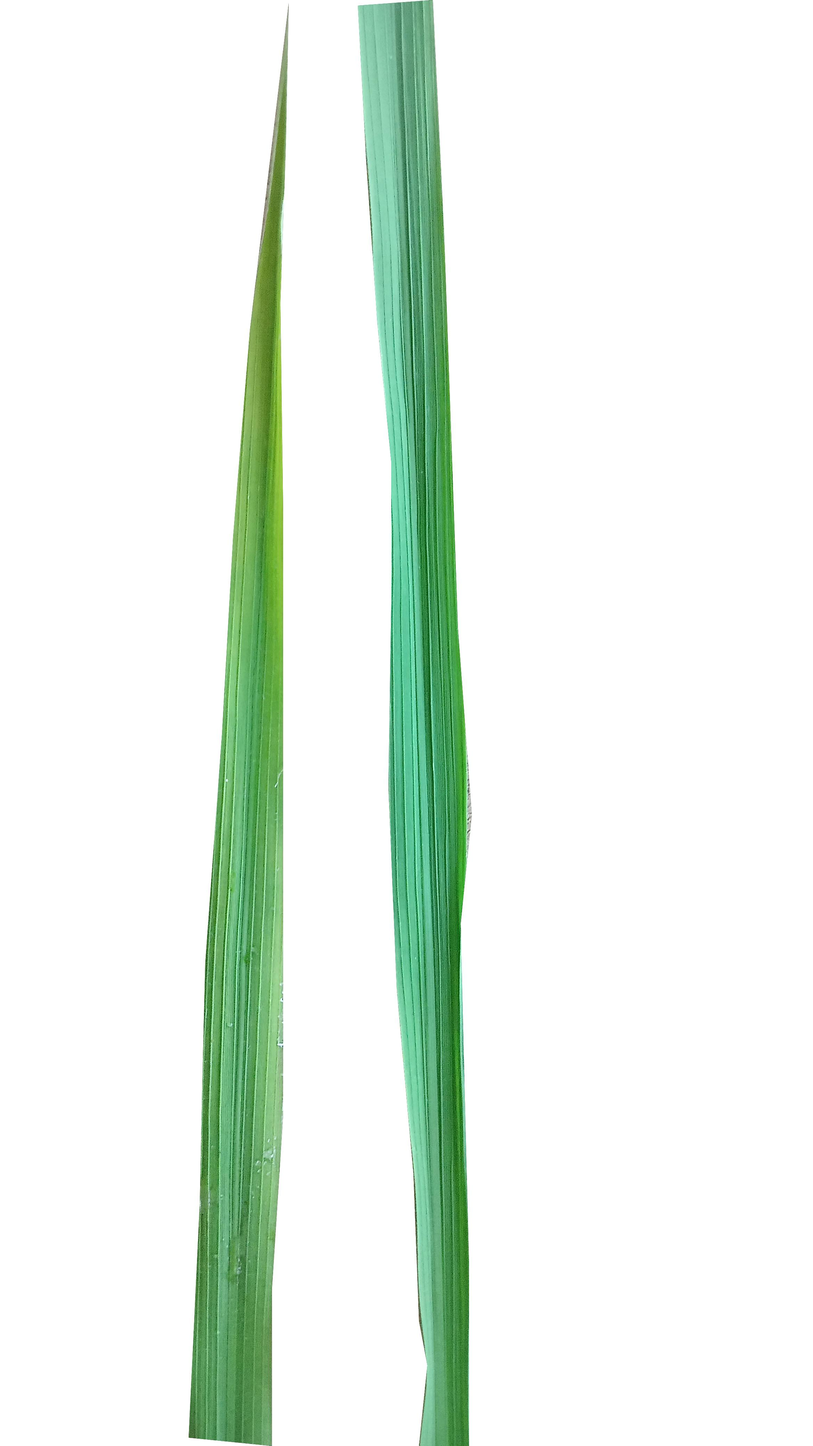Healthy: (349, 0, 482, 1446), (184, 0, 281, 1446)
